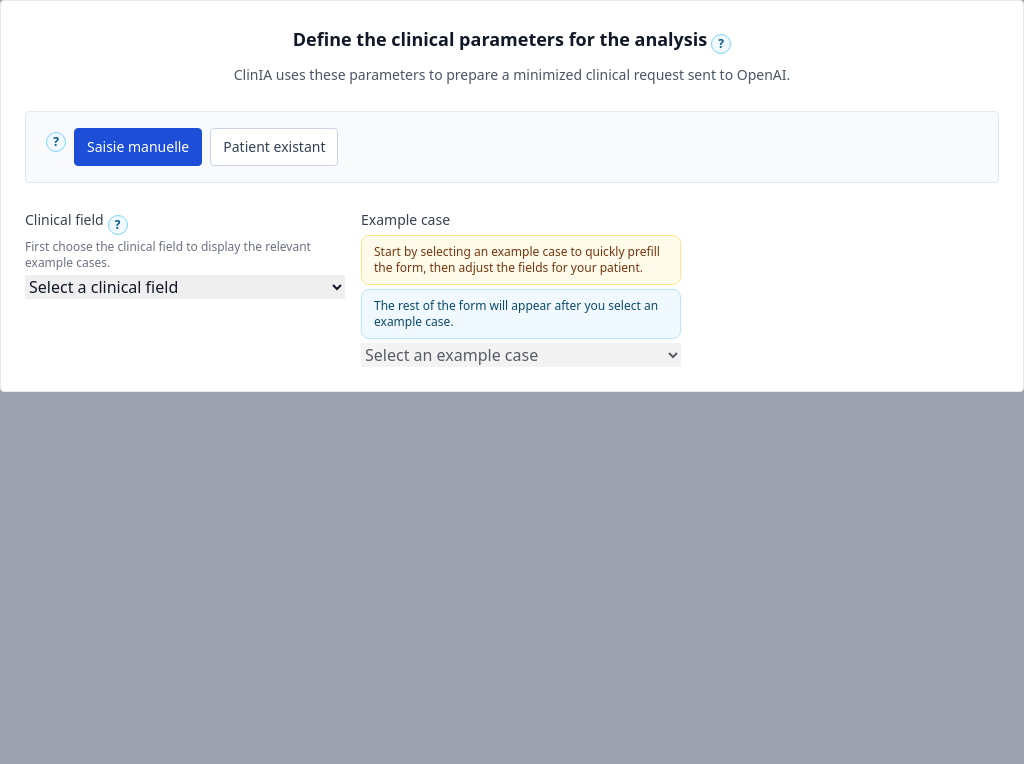
Scenario: ClinicalForm › keeps the hypertension example medical terms in English for en-CA
Select "General medicine" in the dropdown with id "clinical-field" at (185, 287), box [25,275,345,299]
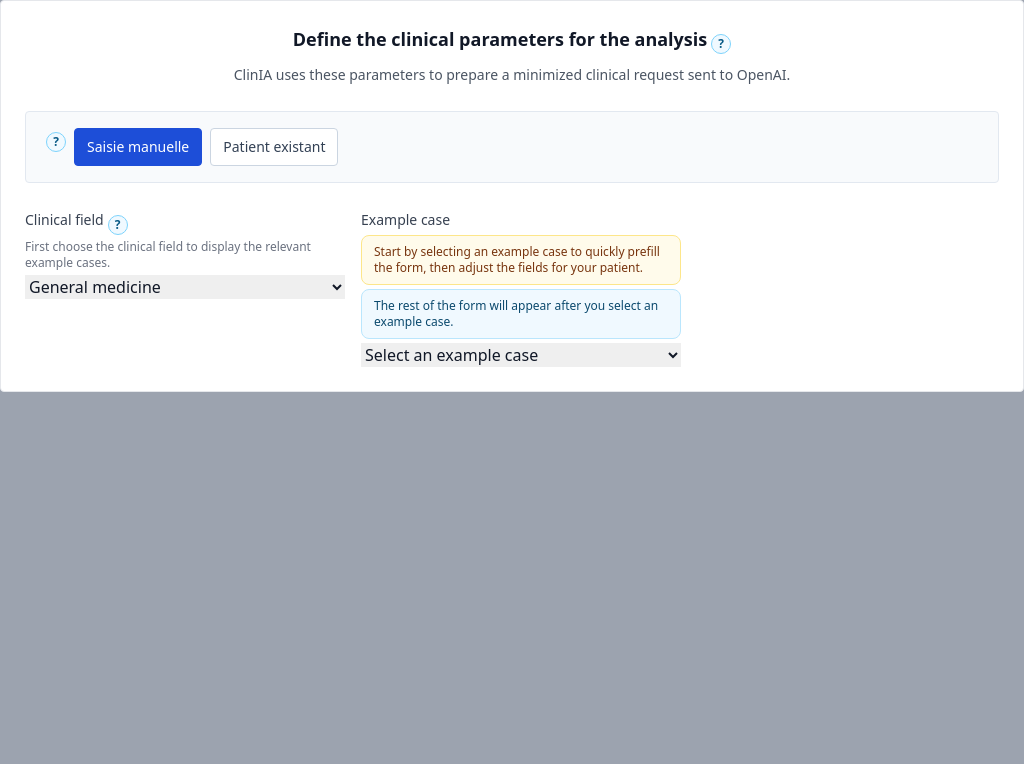
Select "Hypertension" in the dropdown with id "clinical-example-case" at (521, 355), box [361,343,681,367]
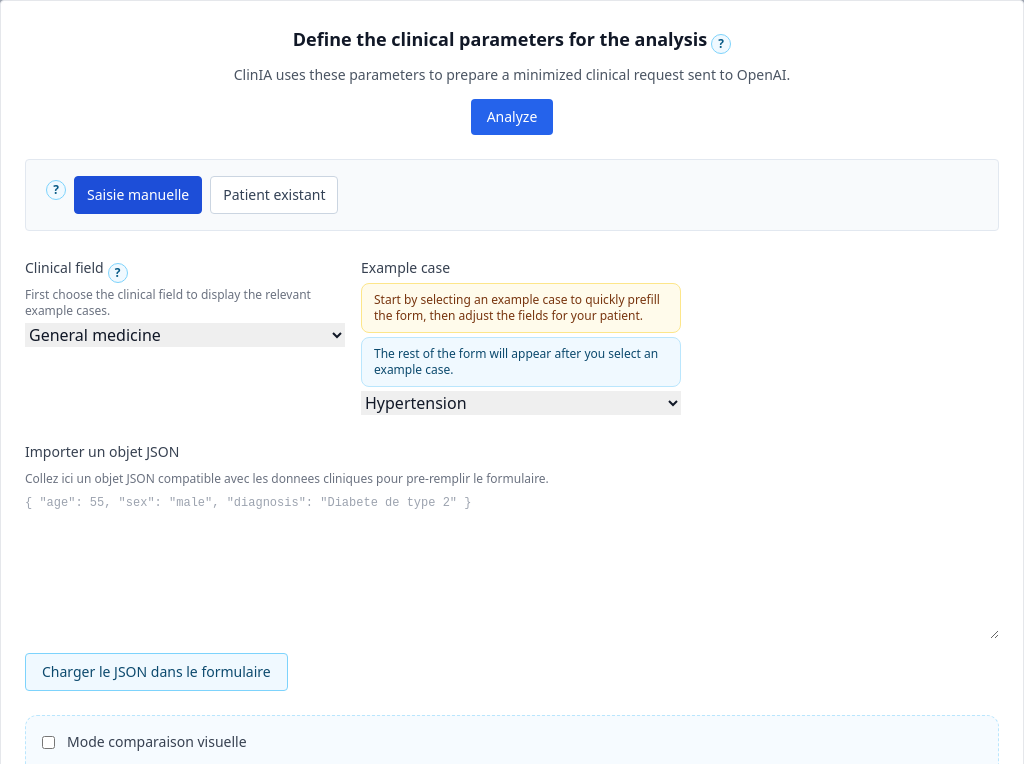
Check: the button "Analyze" is shown, box [471,99,553,135]
